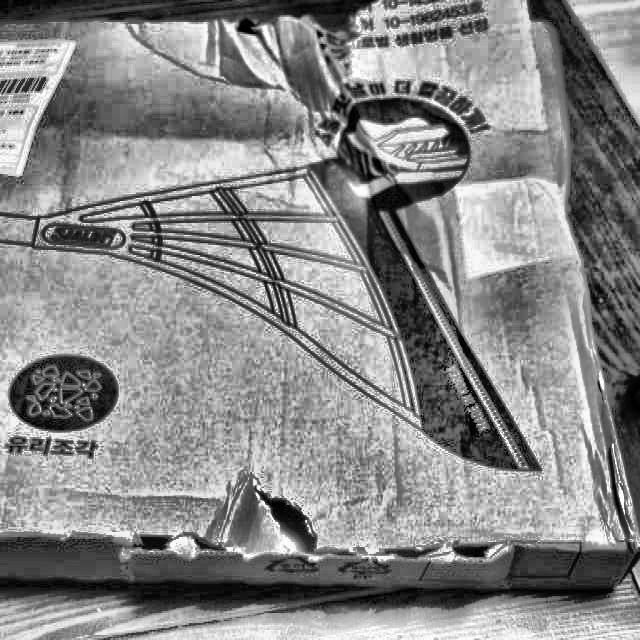box: (0, 0, 639, 602)
hole: (118, 481, 506, 581)
